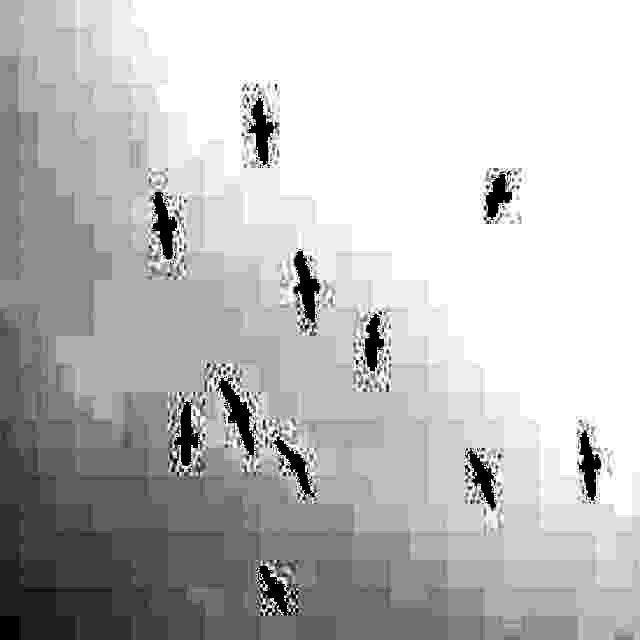bird: (208, 376, 257, 456), (568, 426, 607, 506), (238, 100, 282, 169), (288, 244, 322, 326), (275, 436, 317, 496), (148, 183, 178, 262), (469, 426, 498, 506), (256, 562, 294, 622), (362, 309, 393, 381), (176, 393, 201, 472), (479, 170, 520, 218)
